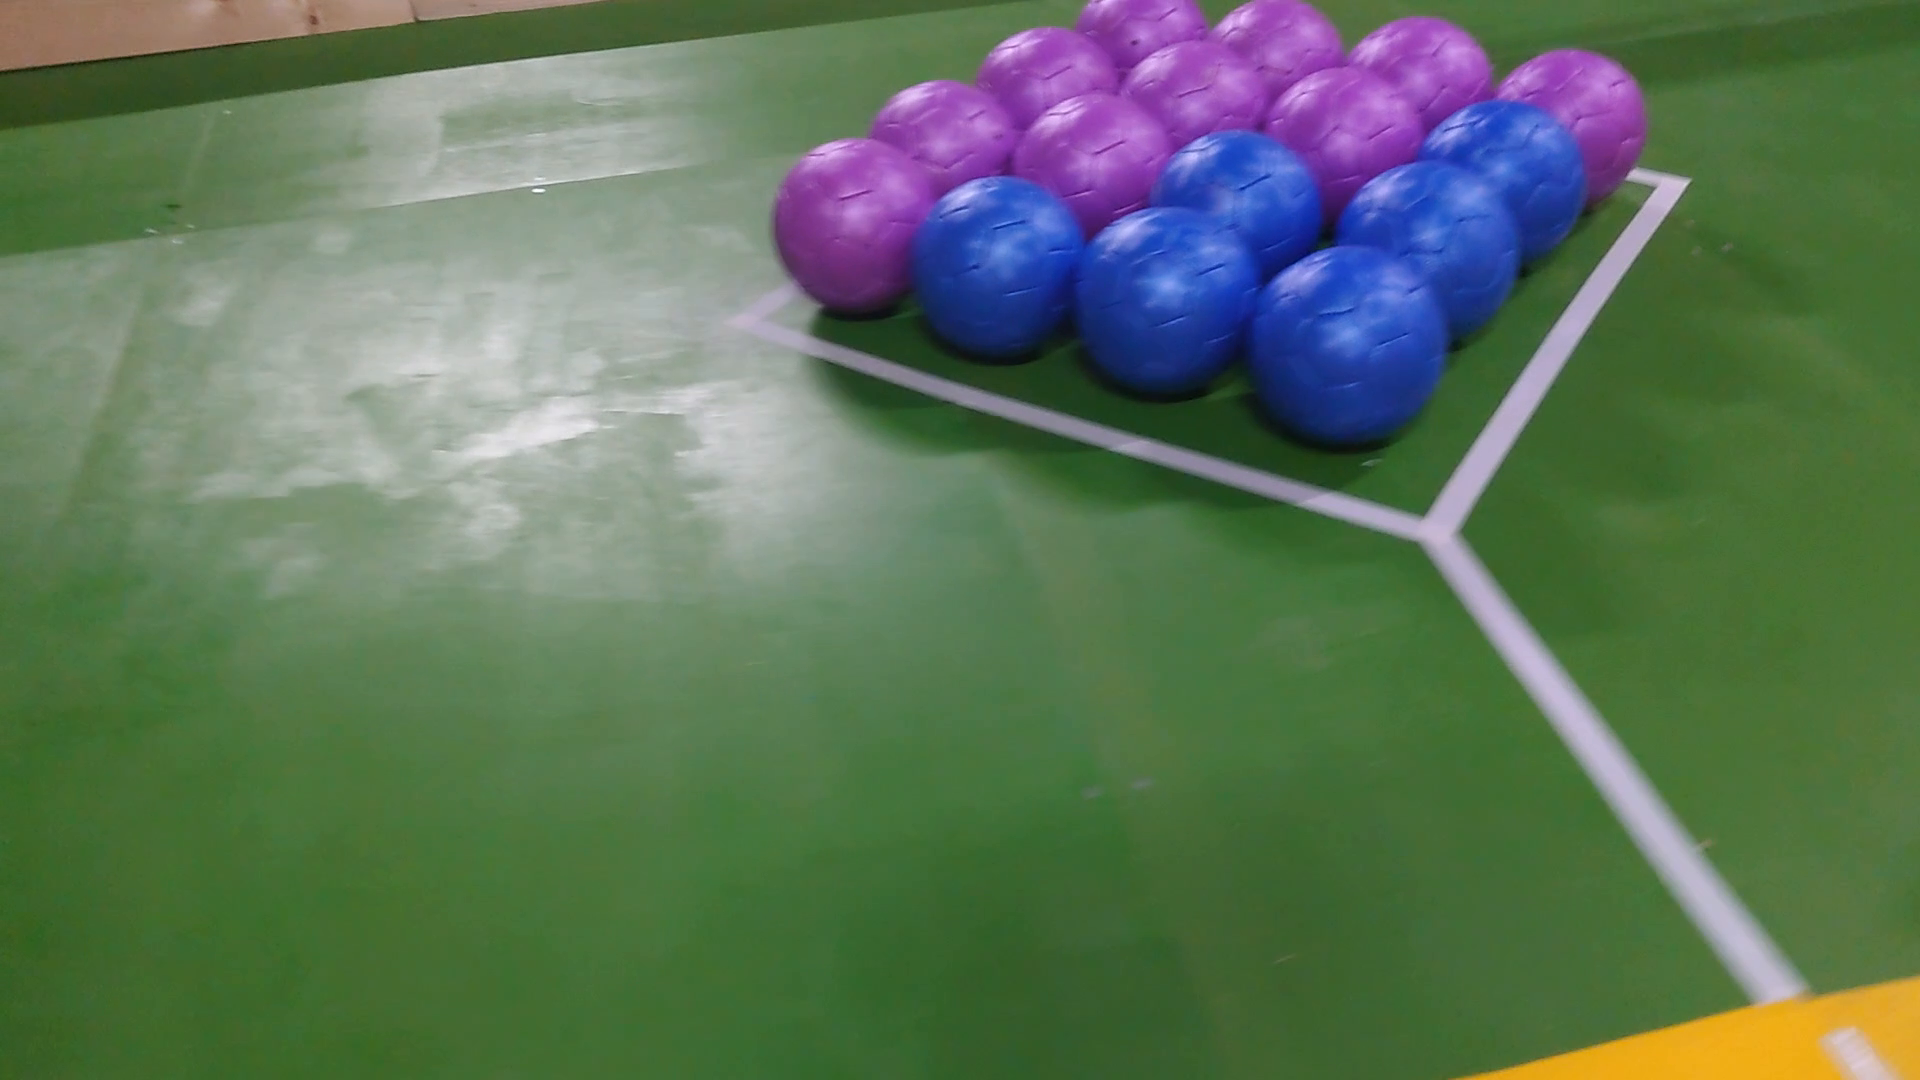blue: (1250, 235, 1440, 454), (1075, 206, 1254, 396), (1336, 157, 1522, 323), (911, 179, 1081, 359), (1427, 91, 1593, 225), (1153, 131, 1319, 258)
purple: (764, 137, 931, 316), (1495, 46, 1646, 196), (1263, 62, 1427, 183), (865, 82, 1026, 196), (1013, 98, 1172, 208), (1120, 36, 1261, 144), (1349, 16, 1493, 115), (982, 36, 1126, 131), (1205, 3, 1342, 75), (1071, 3, 1208, 59)
